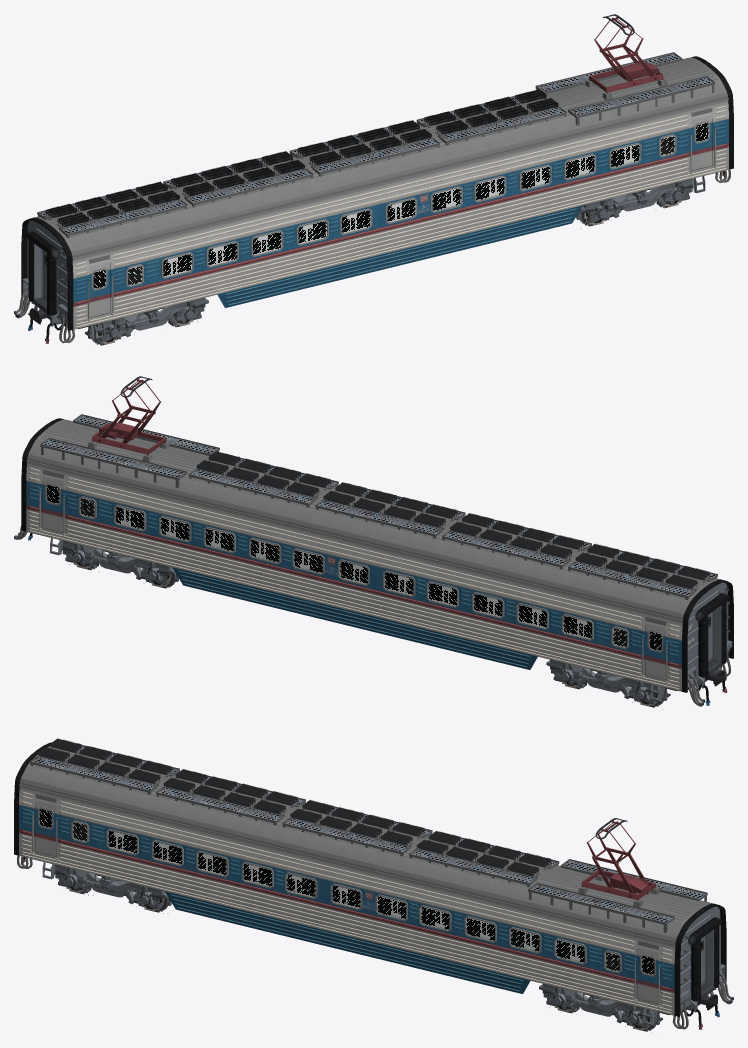
Rendered from mvp_ir_r200m.obj.
3 views of the same model, one above another, from view 1: azimuth 30°, elevation 25°; view 2: azimuth 150°, elevation 25°; view 3: azimuth 330°, elevation 25° (orthographic).
Parts seen in each view (by area): view 1: FRAME_r200m, BOGEY_REAR_r200m, BOGEY_FRONT_r200m; view 2: FRAME_r200m, BOGEY_REAR_r200m, BOGEY_FRONT_r200m; view 3: FRAME_r200m, BOGEY_FRONT_r200m, BOGEY_REAR_r200m.
Boxes of the visible parts, bbox=[...] form: FRAME_r200m: bbox=[14, 14, 733, 343]; BOGEY_REAR_r200m: bbox=[576, 179, 697, 223]; BOGEY_FRONT_r200m: bbox=[85, 297, 208, 342]; FRAME_r200m: bbox=[14, 376, 733, 706]; BOGEY_REAR_r200m: bbox=[58, 540, 178, 585]; BOGEY_FRONT_r200m: bbox=[546, 659, 670, 704]; FRAME_r200m: bbox=[14, 738, 733, 1029]; BOGEY_FRONT_r200m: bbox=[50, 865, 171, 909]; BOGEY_REAR_r200m: bbox=[539, 983, 662, 1028].
Size of the model in its own units: 25.48 by 6.56 by 3.16.
